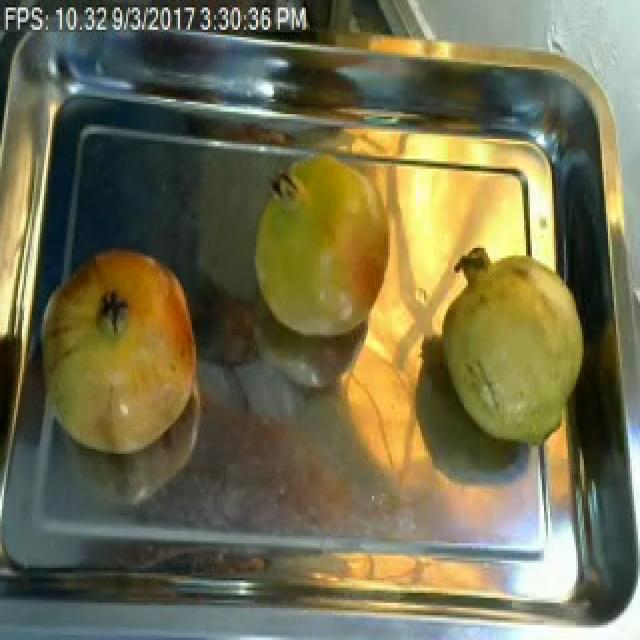fruit: (32, 231, 212, 474), (234, 139, 408, 355), (430, 236, 594, 464)
